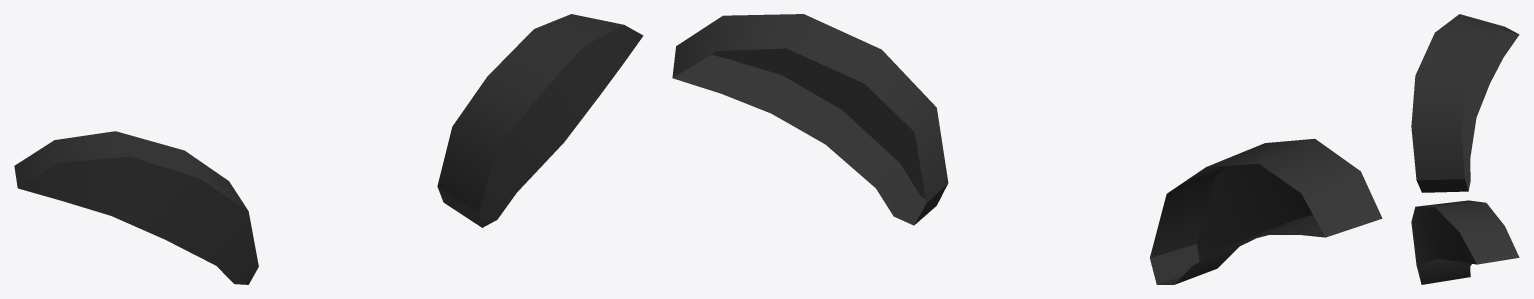
Rendered from Eyebrow_14.fbx.
3 renders of one model, left to right at view 1: azimuth 30°, elevation 25°; view 2: azimuth 150°, elevation 25°; view 3: azimuth 270°, elevation 25°, orthographic. The views are drawn at different scales.
Parts seen in each view (by area): view 1: Eyebrow_14; view 2: Eyebrow_14; view 3: Eyebrow_14.
Boxes of the visible parts, x1,y1,x2,y2 form: Eyebrow_14: (14,14,643,284); Eyebrow_14: (672,14,1382,284); Eyebrow_14: (1411,14,1519,284).
Size of the model in its own units: 28.47 by 6.48 by 5.39.
